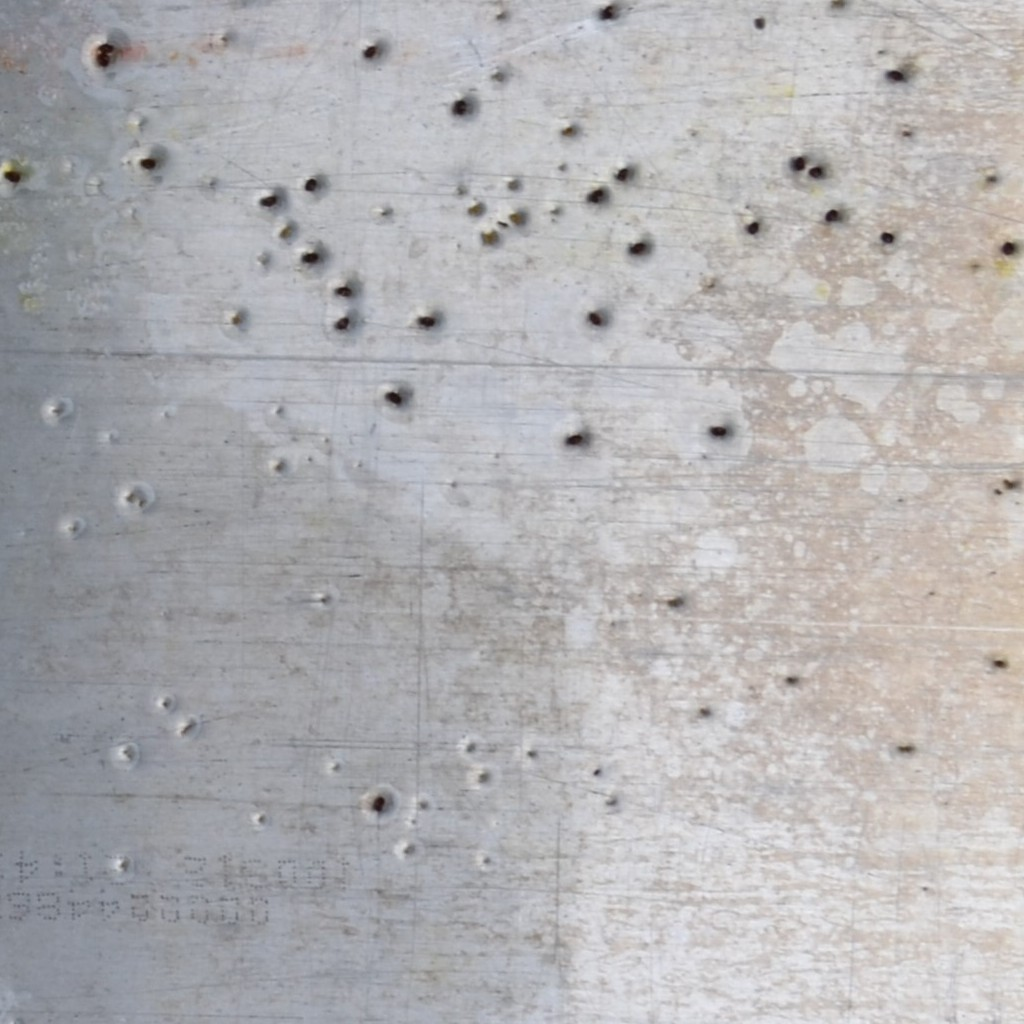varroa: (368, 790, 391, 816), (562, 427, 588, 450), (137, 154, 163, 177), (626, 237, 653, 259), (382, 385, 406, 408), (416, 313, 442, 334), (585, 309, 611, 328), (705, 420, 730, 439), (999, 239, 1021, 260), (331, 314, 353, 335), (882, 66, 906, 85), (359, 44, 383, 63), (2, 166, 26, 185), (298, 248, 323, 266), (612, 164, 633, 184), (595, 7, 620, 23), (822, 206, 843, 225), (259, 193, 280, 212), (743, 219, 762, 239), (451, 97, 471, 116), (789, 154, 807, 175), (300, 177, 322, 194), (879, 226, 897, 246), (806, 162, 824, 182), (333, 283, 354, 300), (94, 52, 115, 68), (751, 16, 769, 33), (991, 656, 1010, 672), (95, 41, 118, 54), (586, 194, 604, 206), (591, 186, 607, 199)
